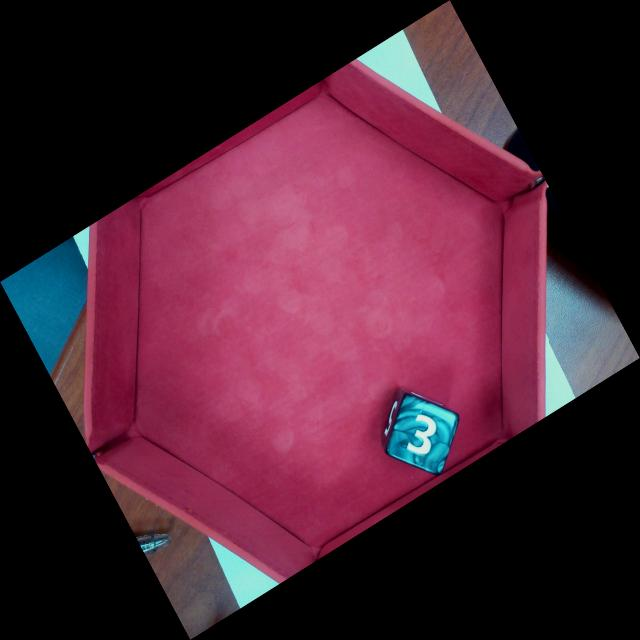dice: (391, 402, 463, 475)
